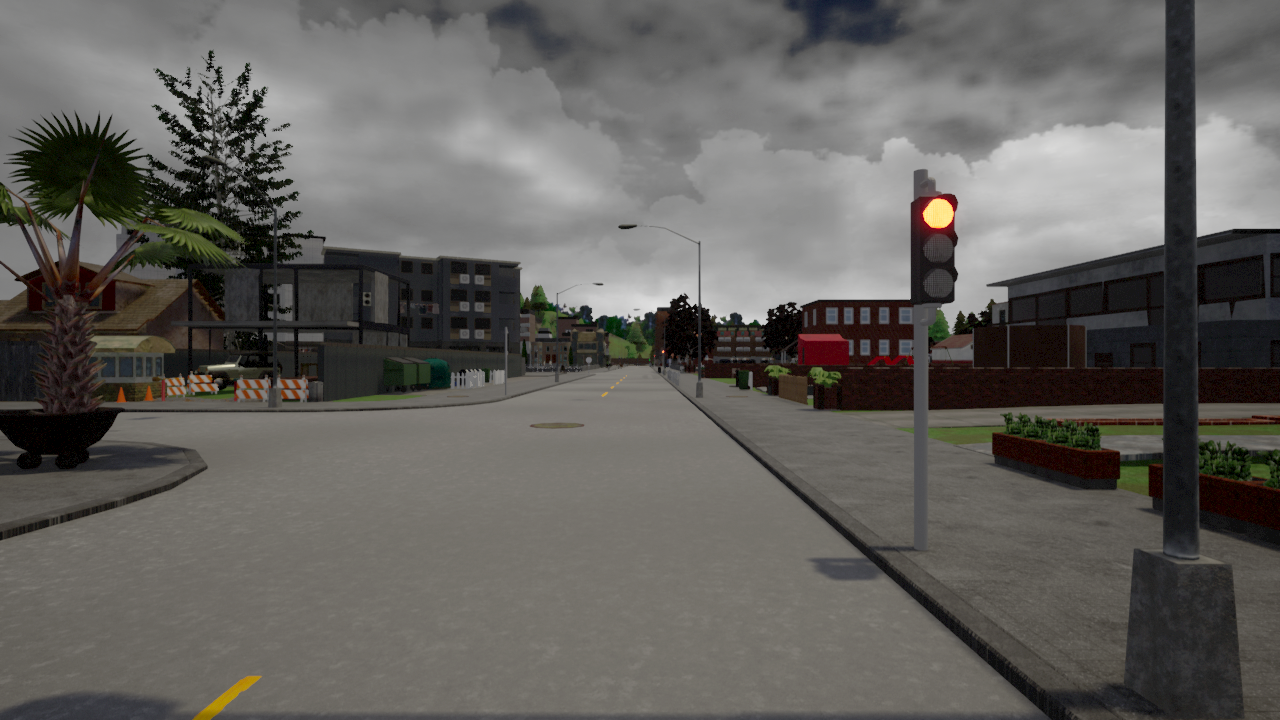red: (911, 193, 962, 313)
